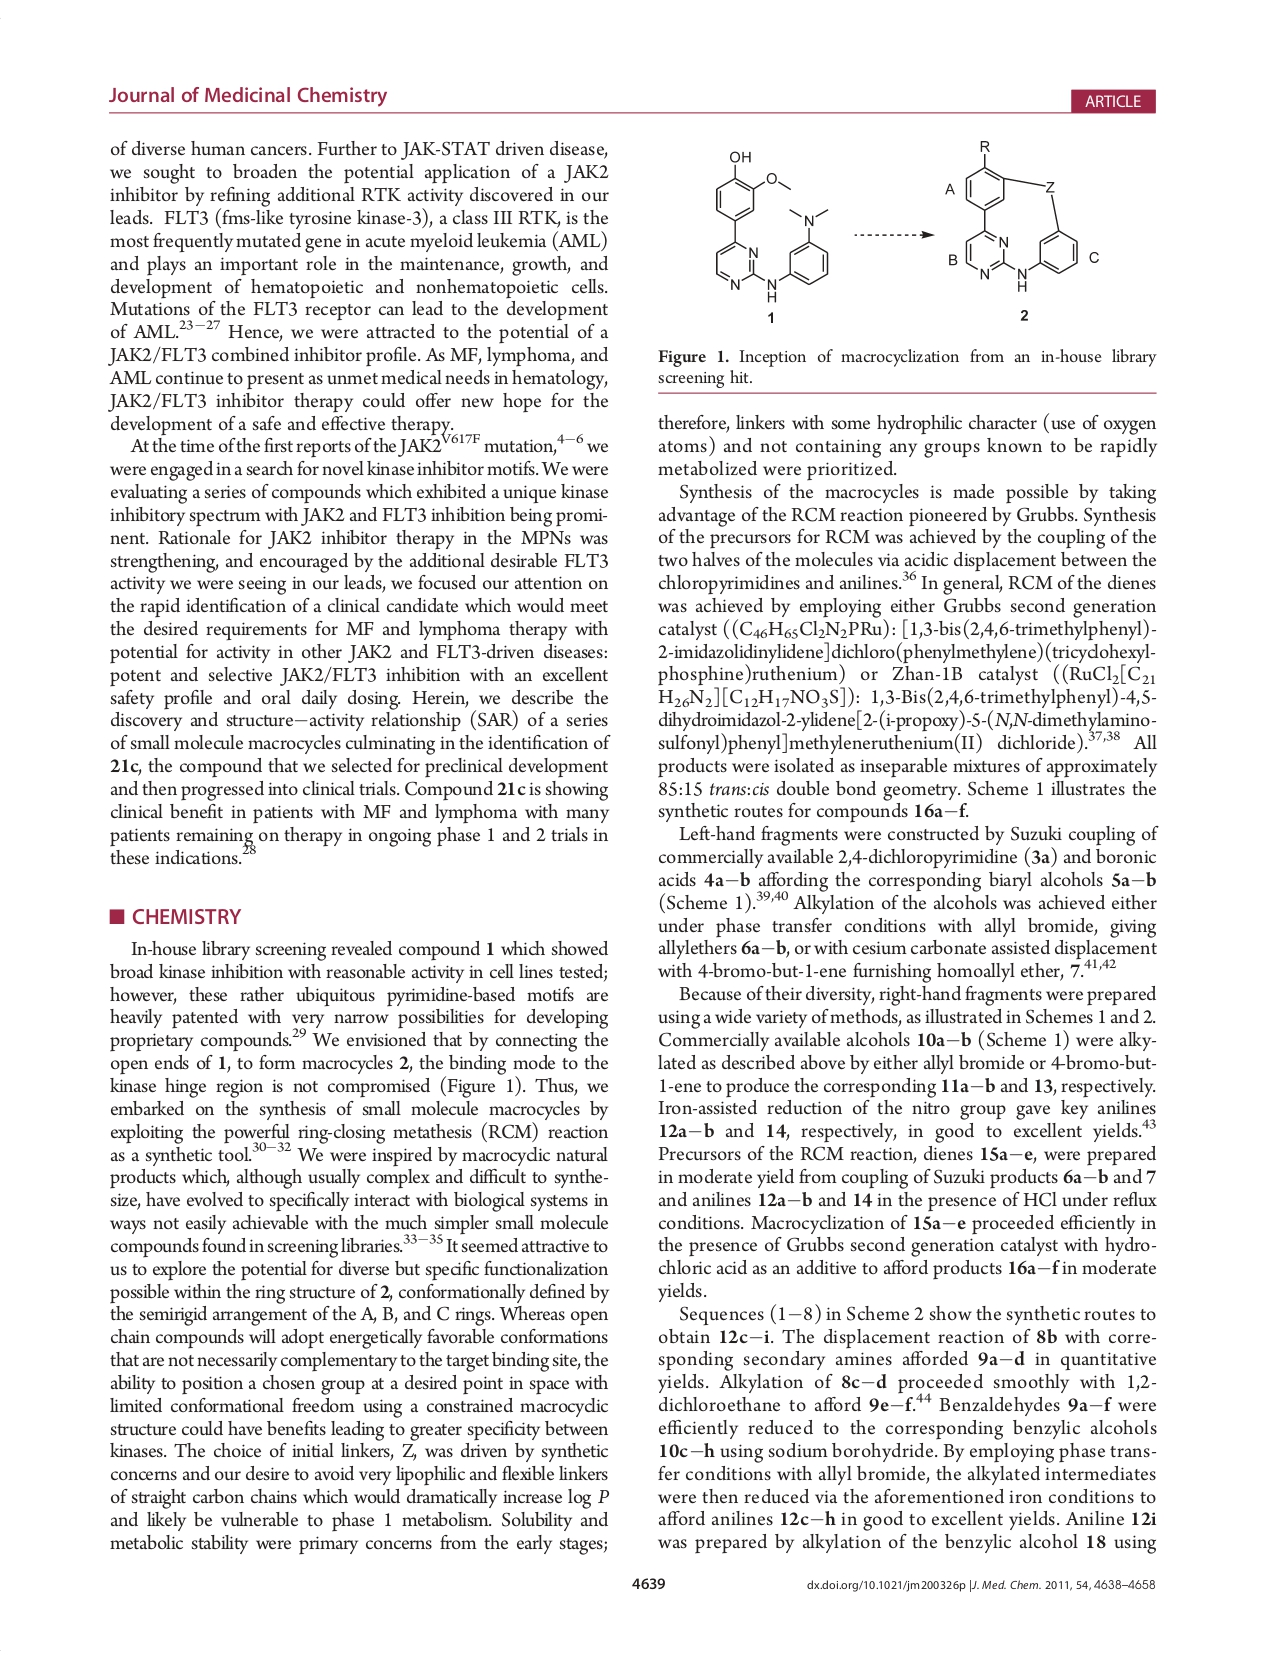exist_molecular: (961, 137, 1082, 293), (714, 148, 832, 305)
